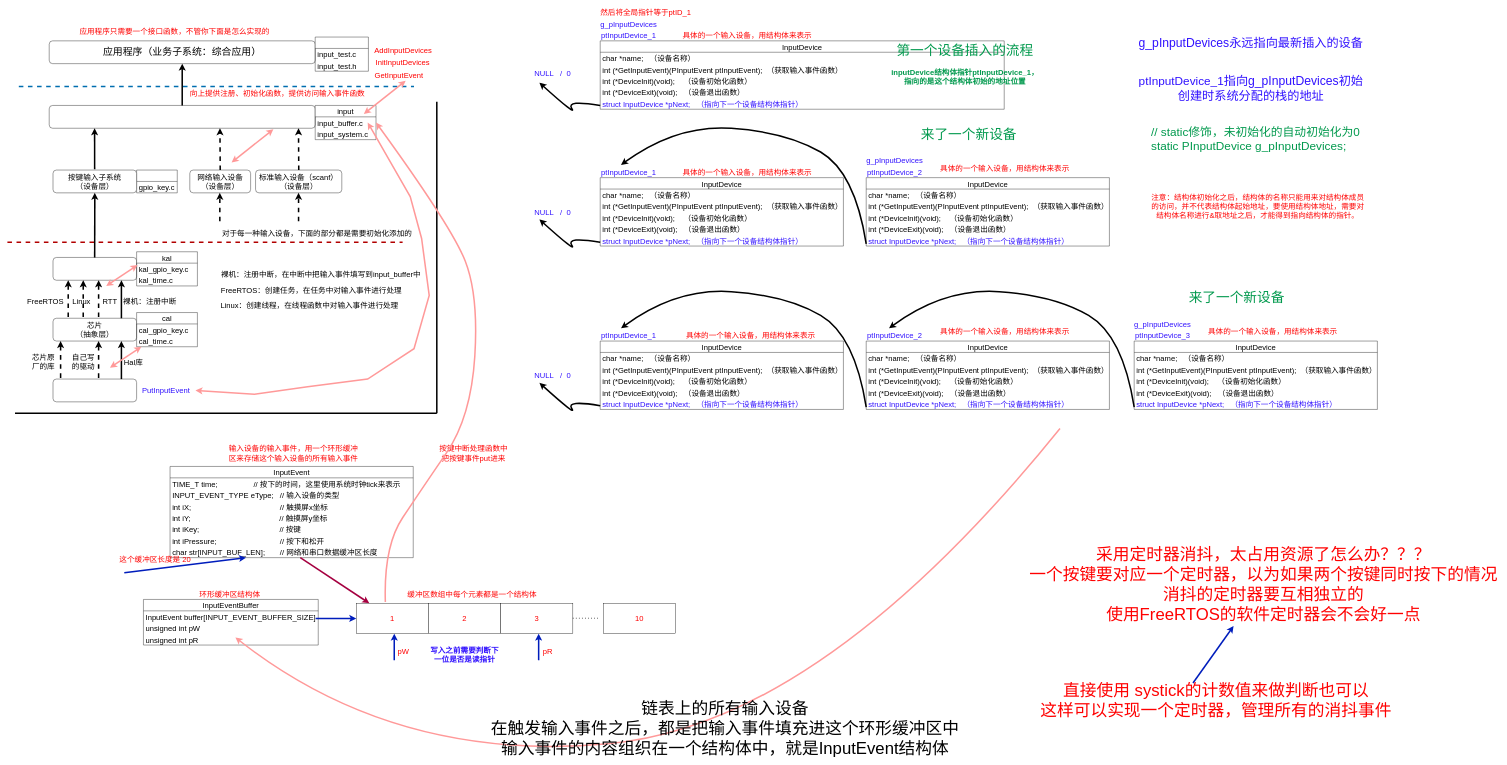
This 1507x765 diagram has some shape labels left out. The box of each missing label's shape, as (x1, y1, x2, y2) in pixels:
unittest: (315, 37, 368, 71)
内核 （抽象层）: (53, 257, 137, 280)
硬件操作: (53, 379, 137, 402)
设备函数: (136, 170, 177, 193)
输入子系统 （管理层）: (49, 105, 315, 128)
